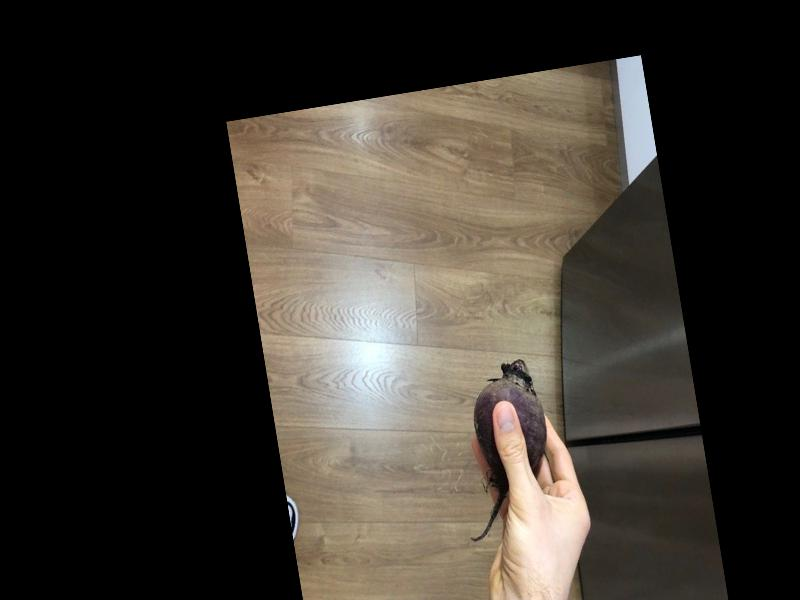Beet: (443, 355, 562, 540)
